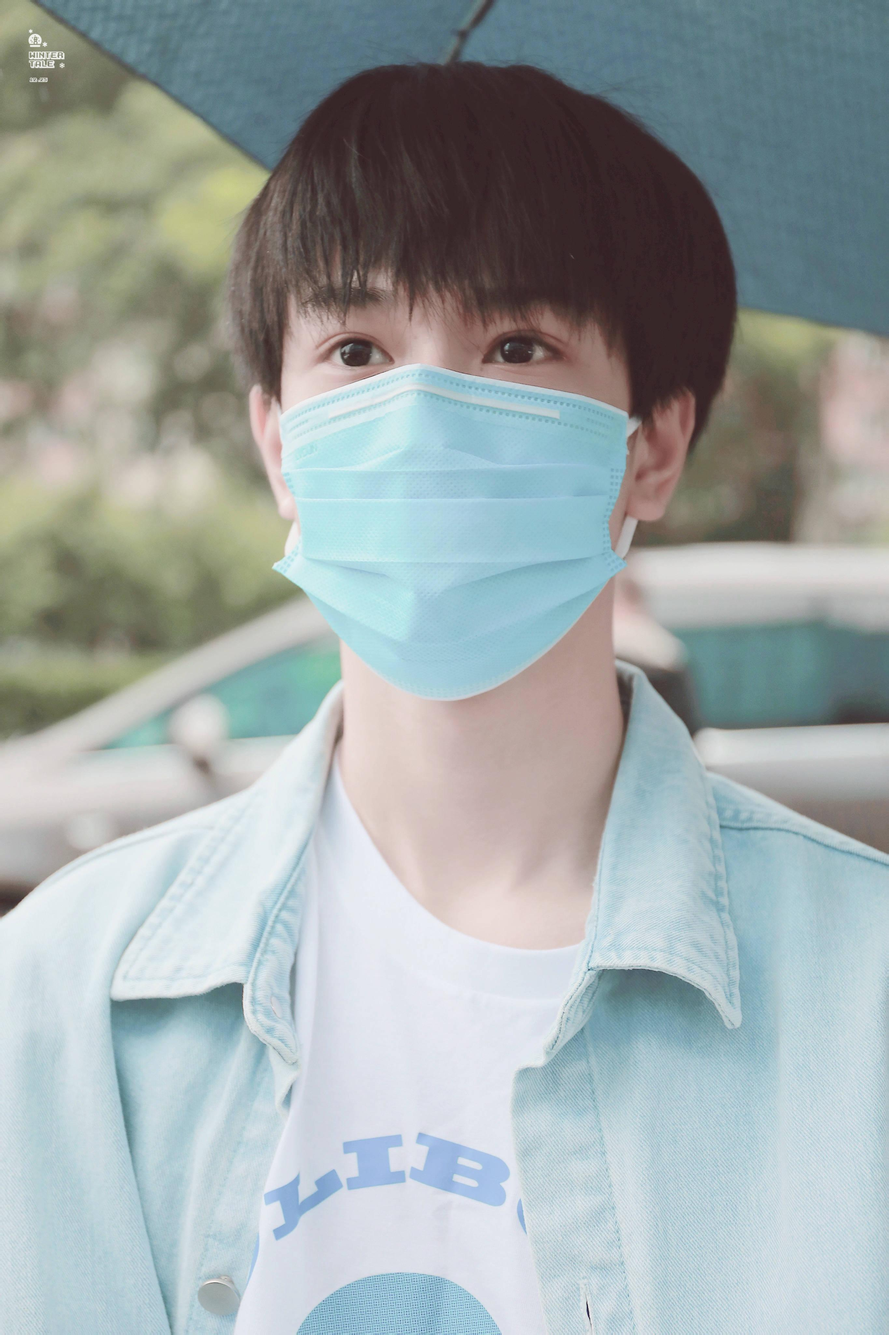OK: (282, 242, 625, 707)
